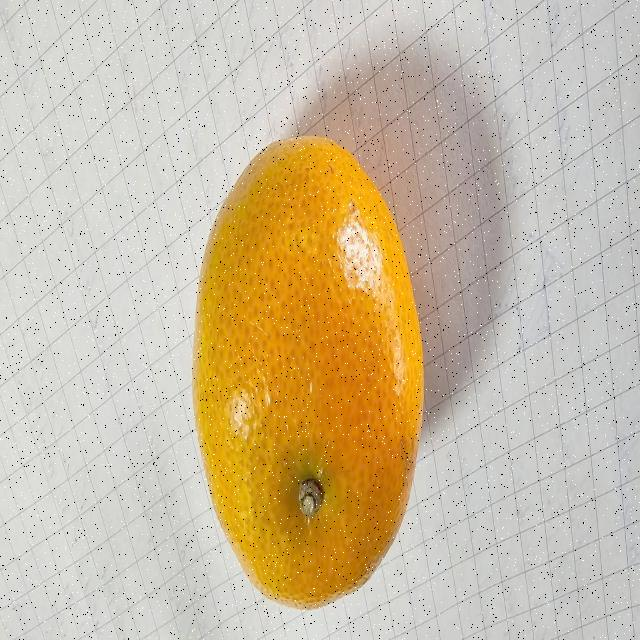Jeruk Mandarin: (186, 117, 430, 613)
